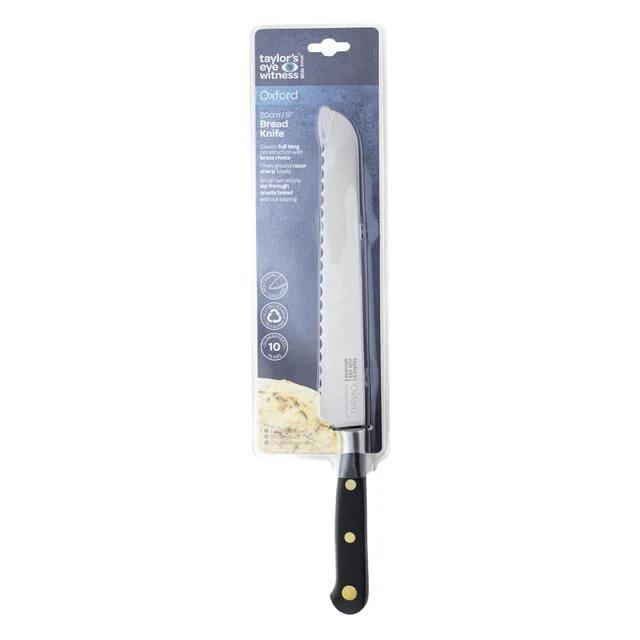Knife: (318, 105, 382, 614)
